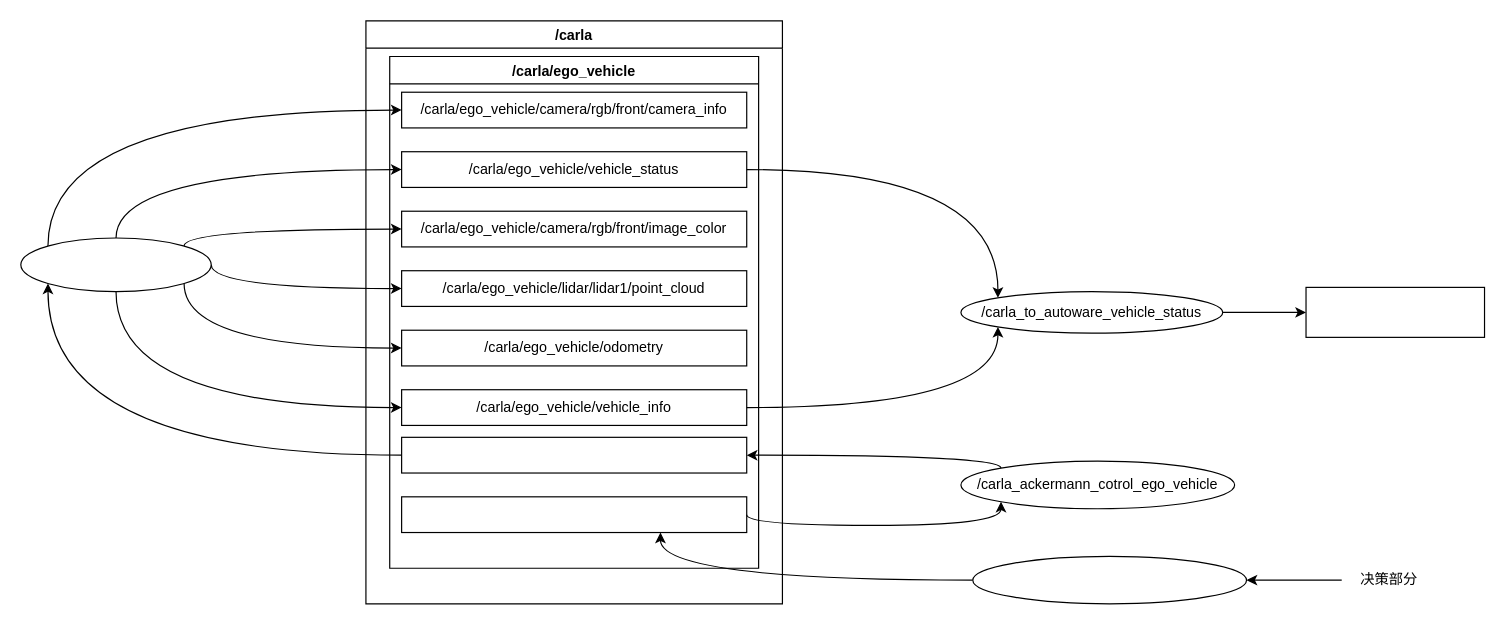
This 1505x625 diagram has some shape labels left out. Each missing label, with the centre of its shape:
/carla/ego_vehicle/ackermann_cmd: point 573,514
/carla/ego_vehicle/vehicle_control_cmd: point 573,454
/carla_ros_bridge: point 115,264
/vehicle_status: point 1395,311
/vehiclecmd_to_ackermanndrive: point 1109,579
